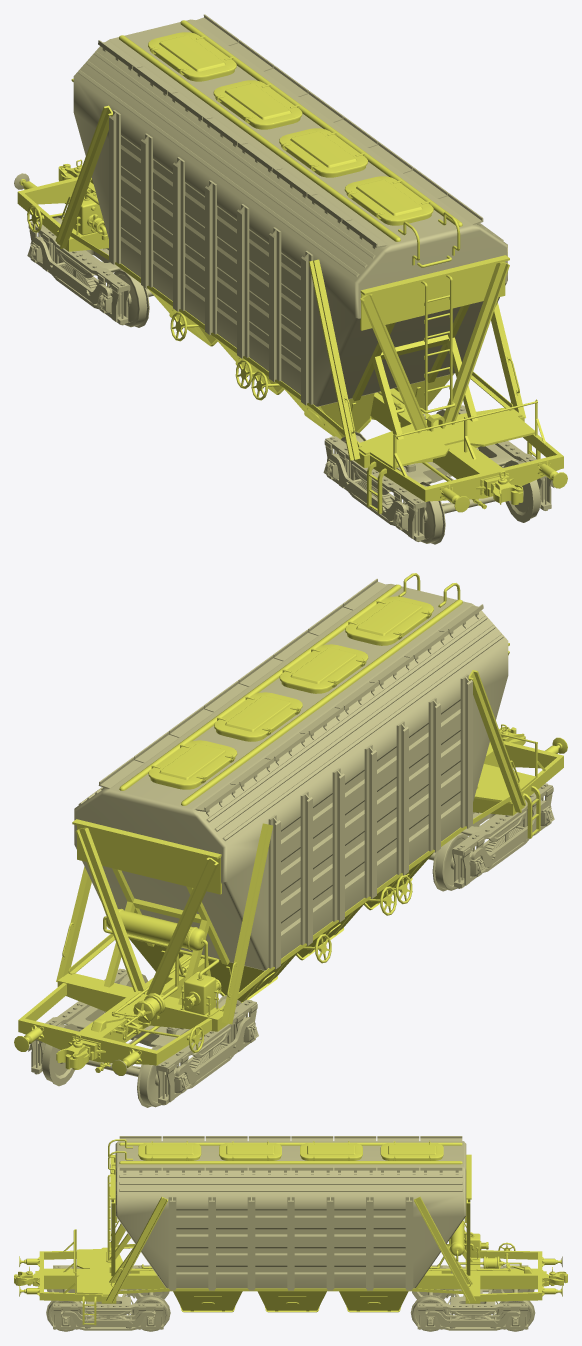
Rendered from HopperVagonSt.FBX.
3 views of the same model, one above another, from view 1: azimuth 30°, elevation 25°; view 2: azimuth 150°, elevation 25°; view 3: azimuth 270°, elevation 25° (orthographic). The views are drawn at different scales.
Visible parts, largest first — view 1: HopperVagon; view 2: HopperVagon; view 3: HopperVagon.
Part boxes in pixels (x1,y1,x2,y2): HopperVagon: (14,14,567,544); HopperVagon: (14,573,567,1107); HopperVagon: (14,1136,567,1331).
Bounding box in the file's own units: 134 × 209 × 609.
